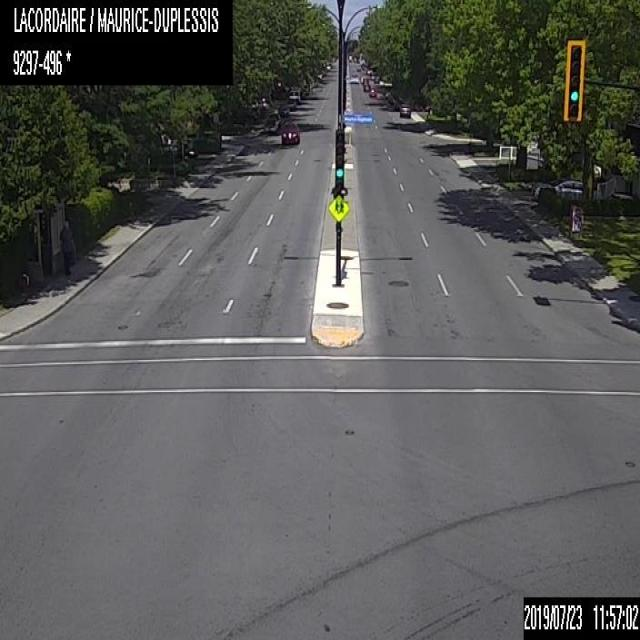pedestrian: (58, 220, 71, 273)
vehicle: (531, 176, 582, 202), (280, 119, 299, 142), (175, 142, 198, 158), (264, 115, 278, 131), (288, 87, 300, 102), (399, 103, 411, 117), (270, 112, 280, 125), (424, 103, 434, 113), (350, 72, 358, 84), (360, 73, 369, 83), (368, 87, 377, 97), (362, 82, 371, 91), (279, 106, 289, 114), (285, 100, 294, 108), (370, 71, 377, 78), (373, 76, 378, 84), (366, 68, 372, 73), (356, 65, 361, 71)
